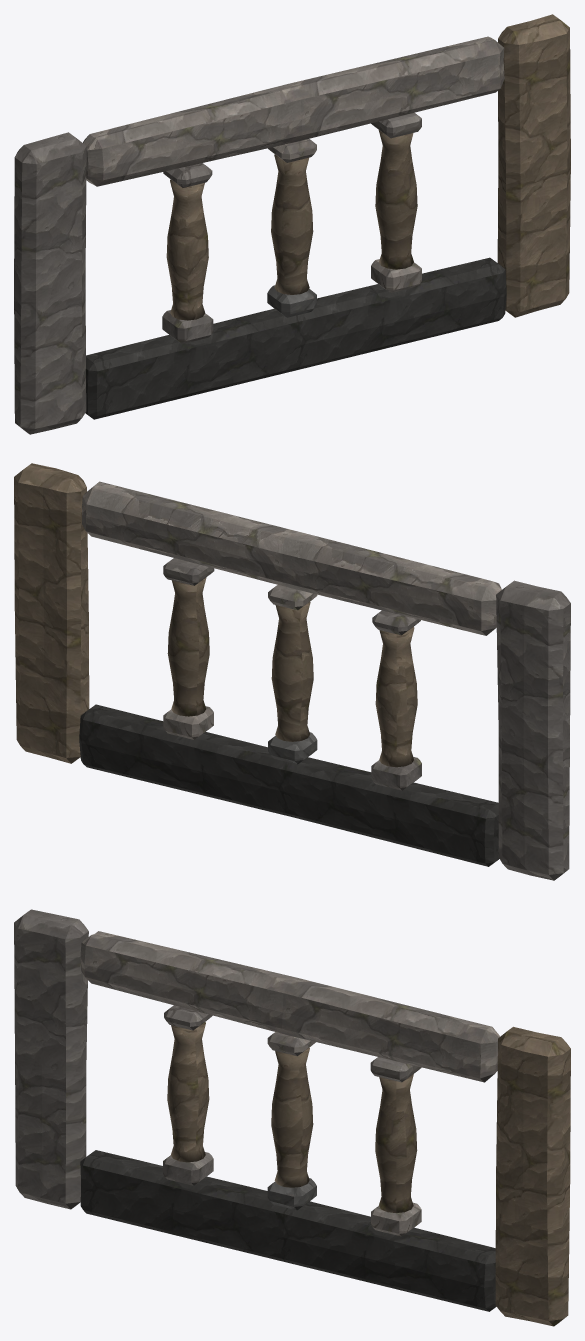
The model's file is railing__cut_stone.glb.
3 renders of one model, top to bottom at view 1: azimuth 30°, elevation 25°; view 2: azimuth 150°, elevation 25°; view 3: azimuth 330°, elevation 25°, orthographic.
Parts seen in each view (by area): view 1: model; view 2: model; view 3: model.
Boxes of the visible parts, x1,y1,x2,y2 form: model: (14,14,570,434); model: (14,463,570,880); model: (14,909,570,1326).
Size of the model in its own units: 1.98 by 0.984 by 0.132.
6 materials, 6 textured.
